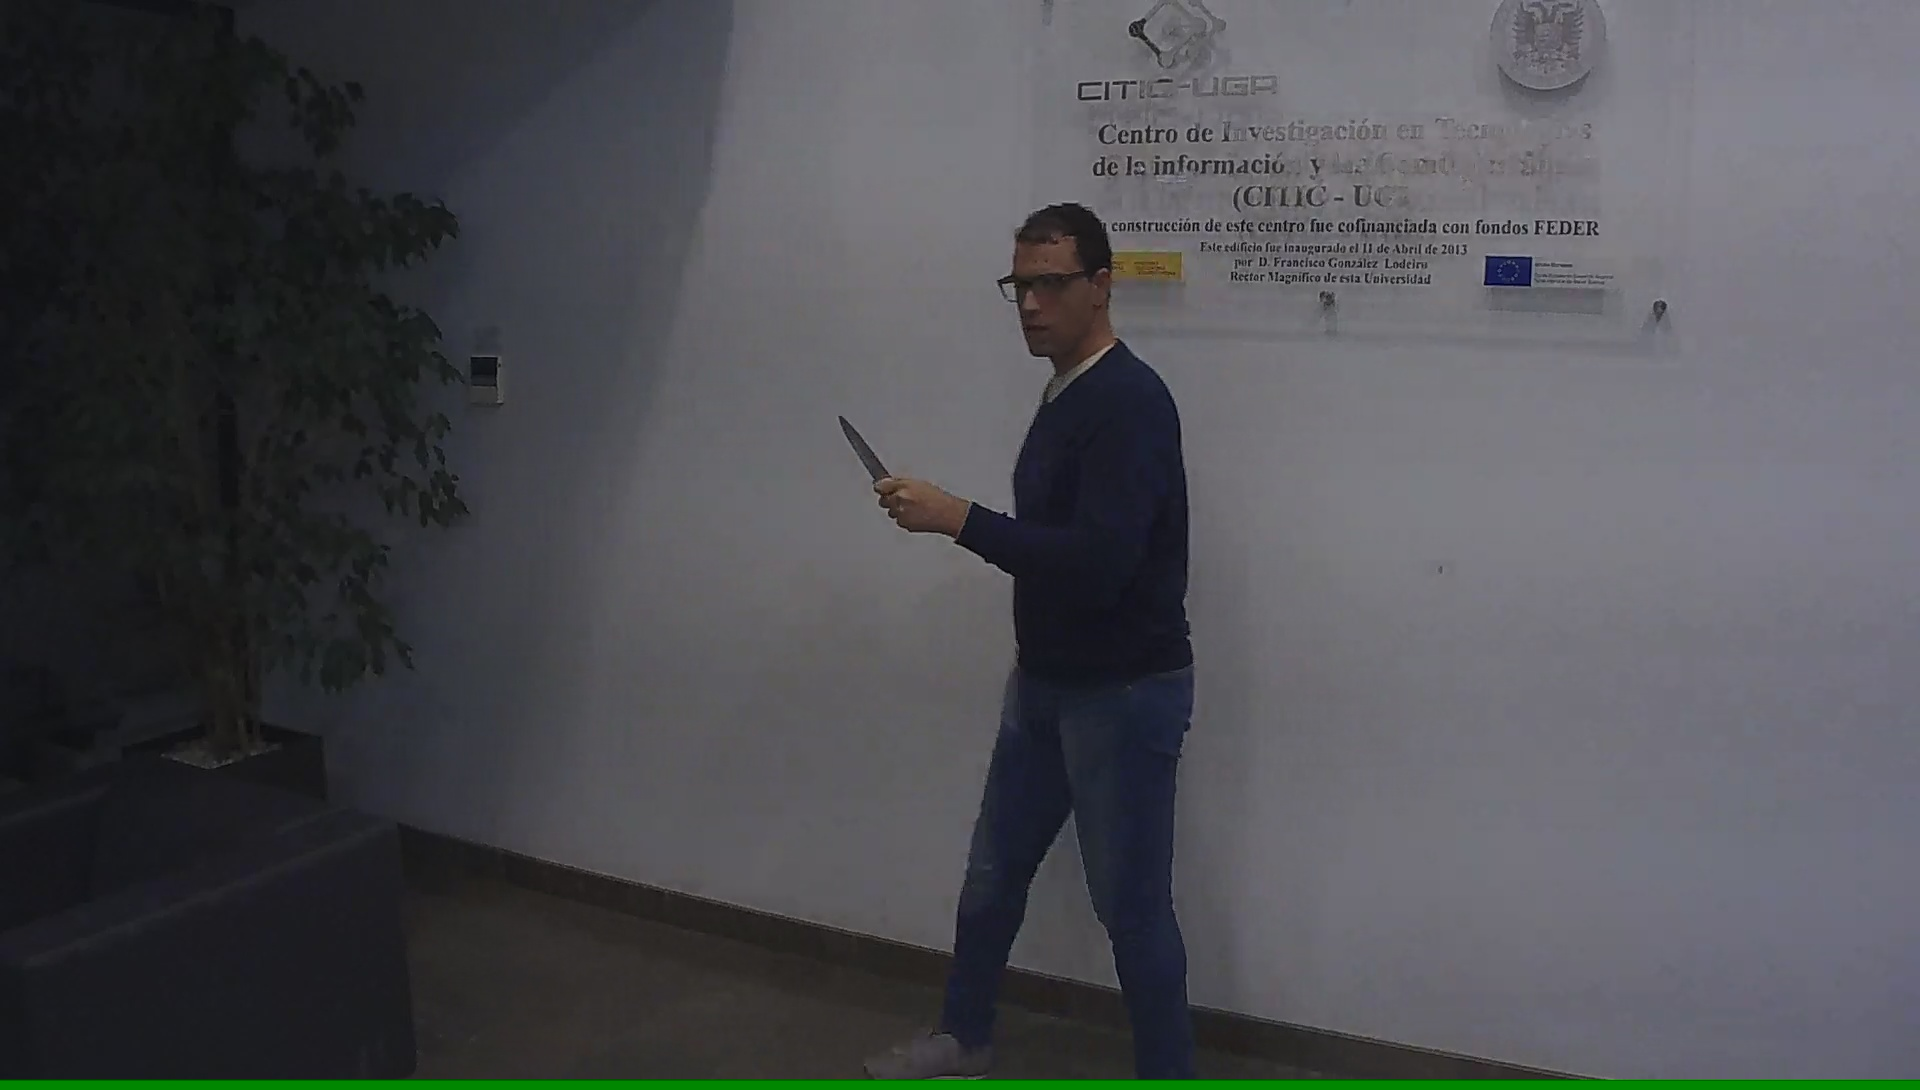knife: (833, 406, 928, 539)
